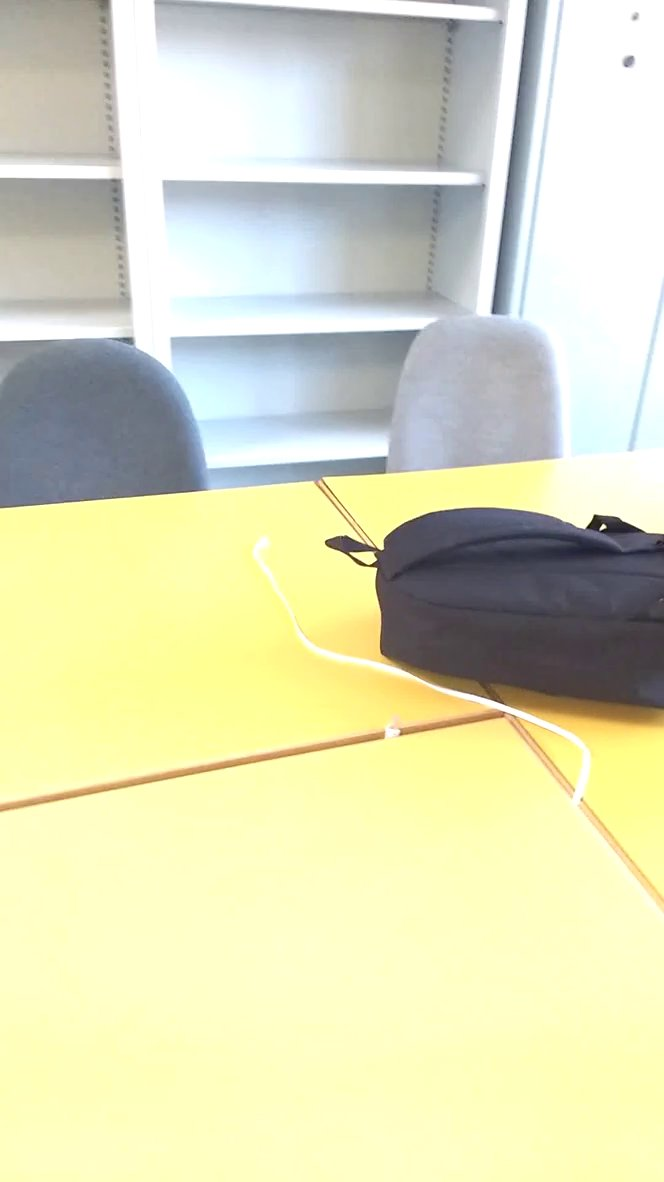bag: (320, 485, 664, 721)
chair: (1, 324, 224, 522), (379, 302, 596, 497)
